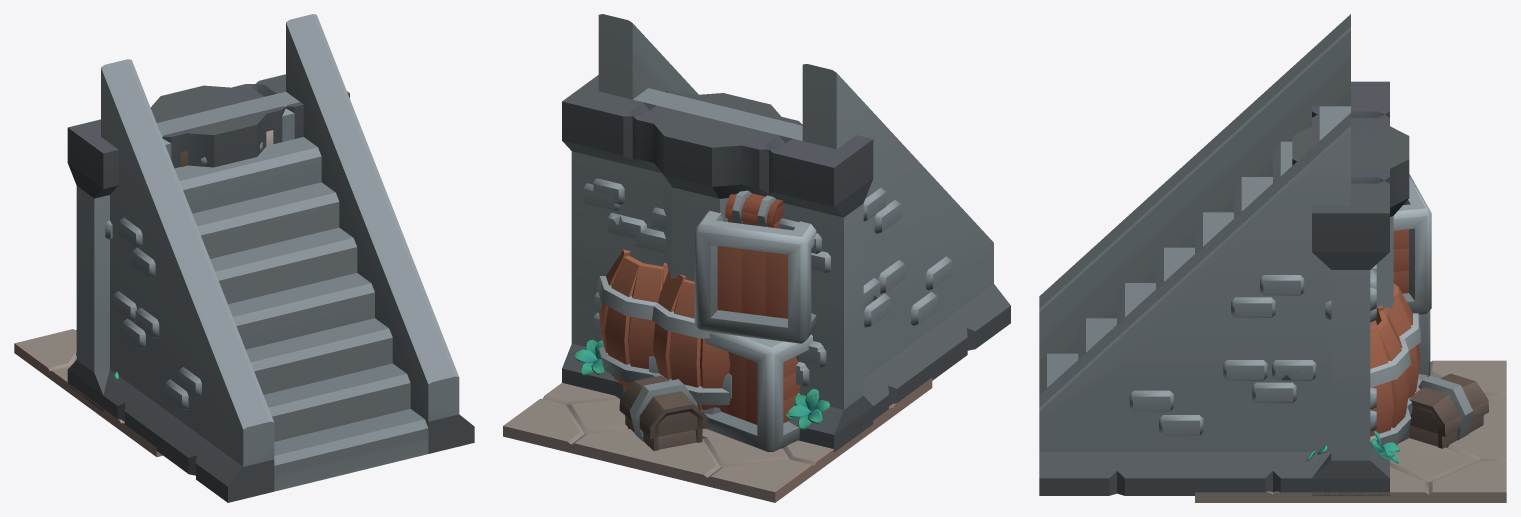
File: dungeon.glb
3 renders of one model, left to right at view 1: azimuth 30°, elevation 25°; view 2: azimuth 150°, elevation 25°; view 3: azimuth 270°, elevation 25°, orthographic. The views are drawn at different scales.
Visible parts, largest first — view 1: stairs_narrow, wall_pillar, wall_cracked, floor_tile_large; view 2: wall_pillar, stairs_narrow, box_stacked, floor_tile_large, wall_cracked, barrel_large; view 3: stairs_narrow, wall_pillar, box_stacked, floor_tile_large, wall_cracked, barrel_large.
Part boxes in pixels (left/top/right/bottom): stairs_narrow: left=101, top=14, right=474, bottom=502; wall_pillar: left=67, top=74, right=303, bottom=410; wall_cracked: left=67, top=74, right=349, bottom=411; floor_tile_large: left=14, top=329, right=162, bottom=456; wall_pillar: left=562, top=75, right=873, bottom=452; stairs_narrow: left=598, top=14, right=1010, bottom=419; box_stacked: left=597, top=190, right=816, bottom=451; floor_tile_large: left=503, top=377, right=932, bottom=502; wall_cracked: left=572, top=91, right=863, bottom=429; barrel_large: left=652, top=272, right=730, bottom=410; stairs_narrow: left=1039, top=14, right=1350, bottom=495; wall_pillar: left=1292, top=81, right=1409, bottom=495; box_stacked: left=1370, top=174, right=1488, bottom=449; floor_tile_large: left=1195, top=360, right=1506, bottom=502; wall_cracked: left=1306, top=82, right=1399, bottom=463; barrel_large: left=1384, top=283, right=1420, bottom=414.
Bounding box in the file's own units: 4 × 5.5 × 6.
Materials: 1 (1 with a texture image).
